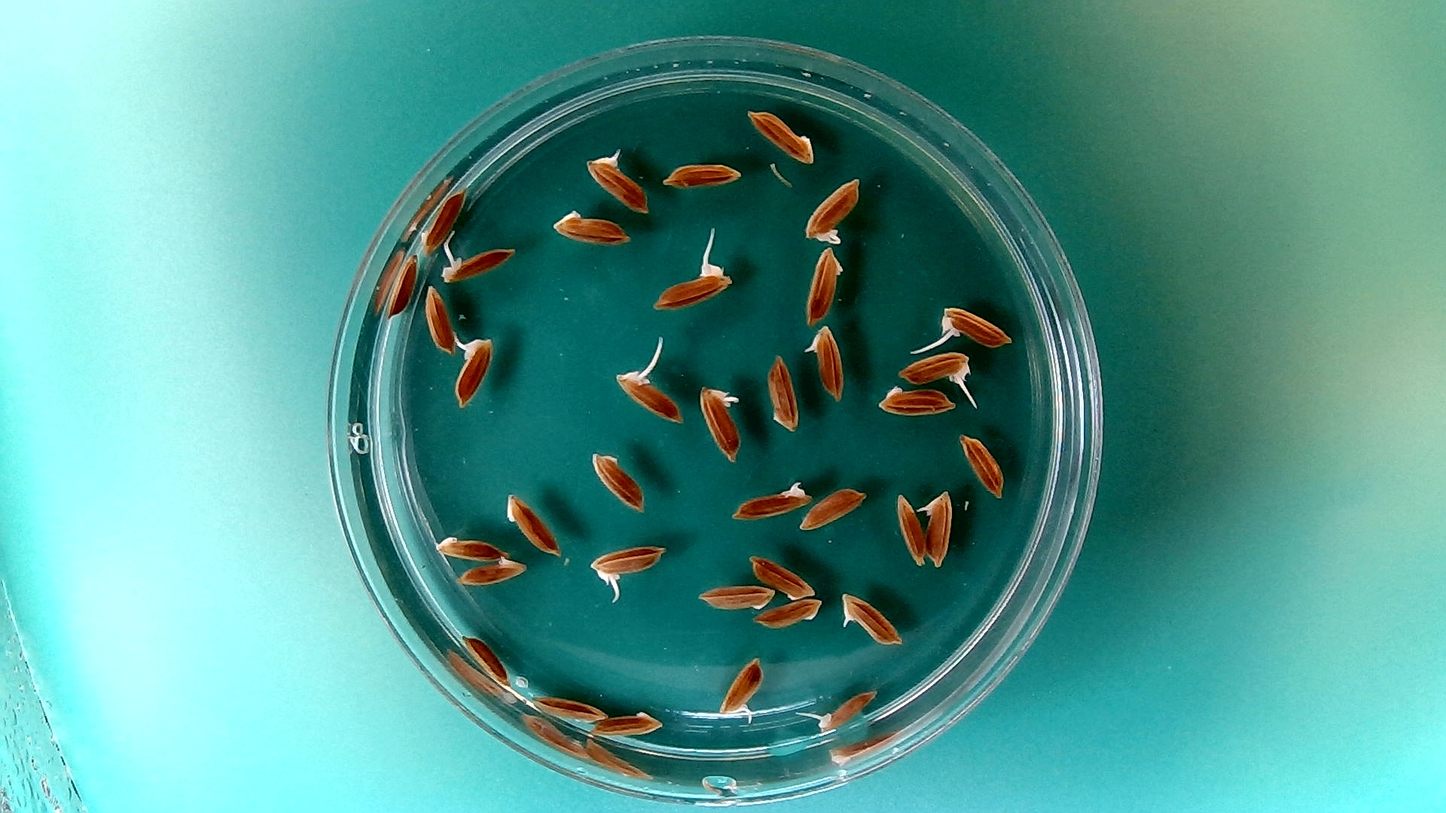no: (744, 104, 817, 166), (502, 488, 564, 558), (587, 446, 648, 515), (801, 244, 847, 327), (418, 182, 469, 256), (747, 550, 818, 601), (796, 483, 869, 532), (548, 205, 633, 247), (957, 428, 1007, 499), (420, 531, 518, 565), (873, 381, 957, 419), (765, 349, 801, 433), (588, 705, 667, 743), (659, 156, 744, 191), (461, 631, 513, 687), (529, 690, 609, 726), (893, 491, 929, 569), (452, 553, 529, 589), (696, 579, 777, 613), (383, 251, 422, 320), (753, 595, 824, 632), (421, 283, 456, 356)
yes: (583, 145, 653, 215), (801, 172, 863, 245), (612, 368, 684, 428), (587, 540, 669, 592), (648, 262, 733, 312), (837, 588, 906, 647), (728, 475, 814, 522), (697, 381, 745, 465), (934, 302, 1014, 349), (713, 651, 767, 720), (804, 321, 848, 403), (450, 331, 496, 409), (437, 240, 517, 284), (810, 685, 878, 735), (895, 348, 975, 389), (918, 488, 956, 569)
